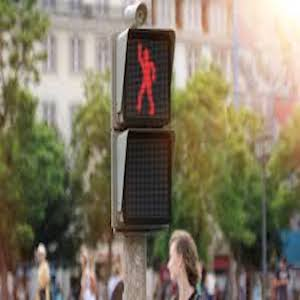red: (130, 39, 169, 120)
